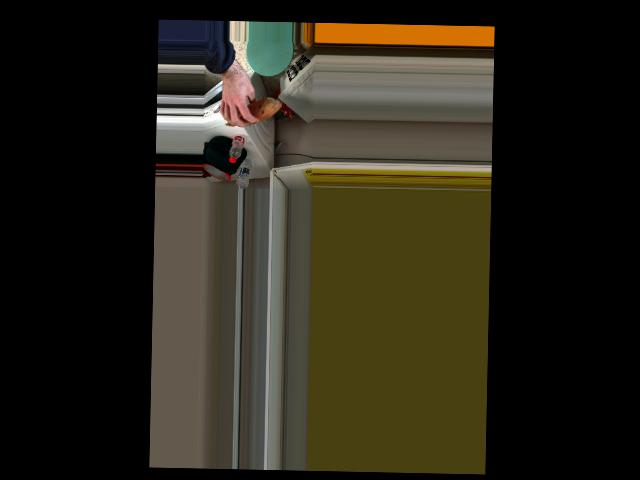sweet_potato: (223, 101, 277, 127)
